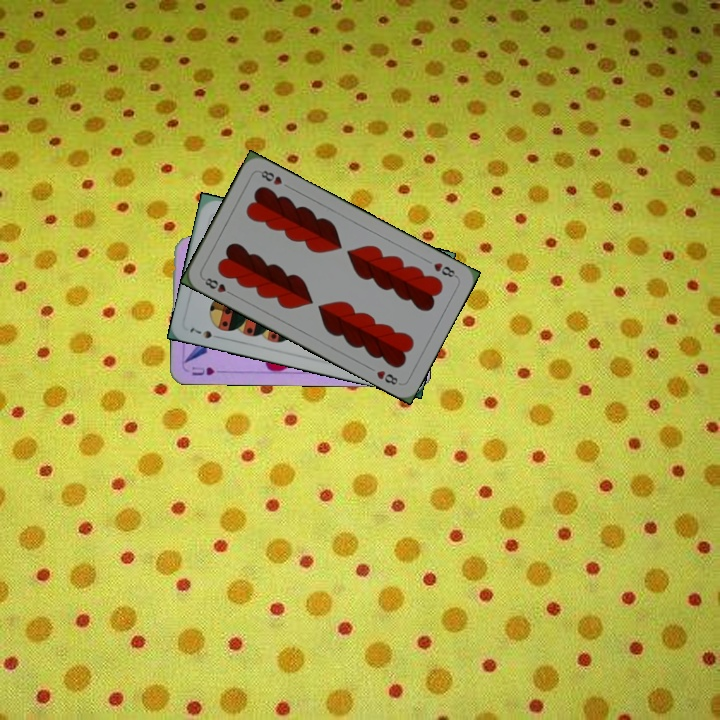H8: (199, 274, 236, 298), (429, 258, 460, 280)
HU: (188, 363, 225, 378)
S7: (186, 324, 225, 342)
